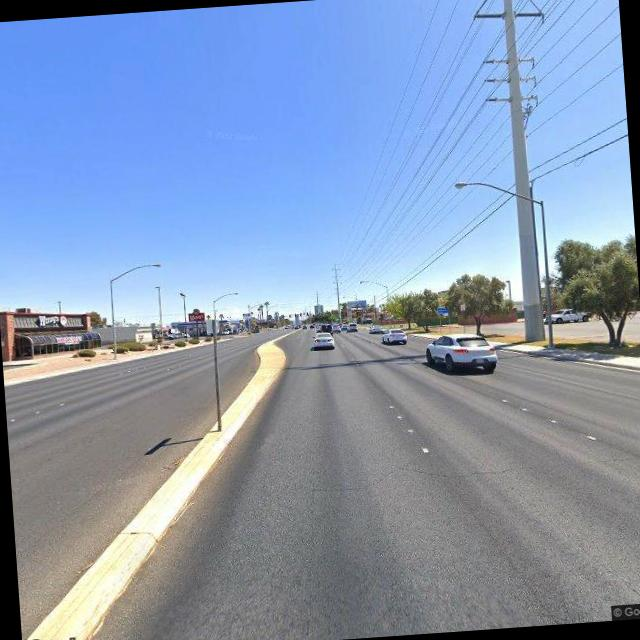crack: (324, 435, 640, 488)
